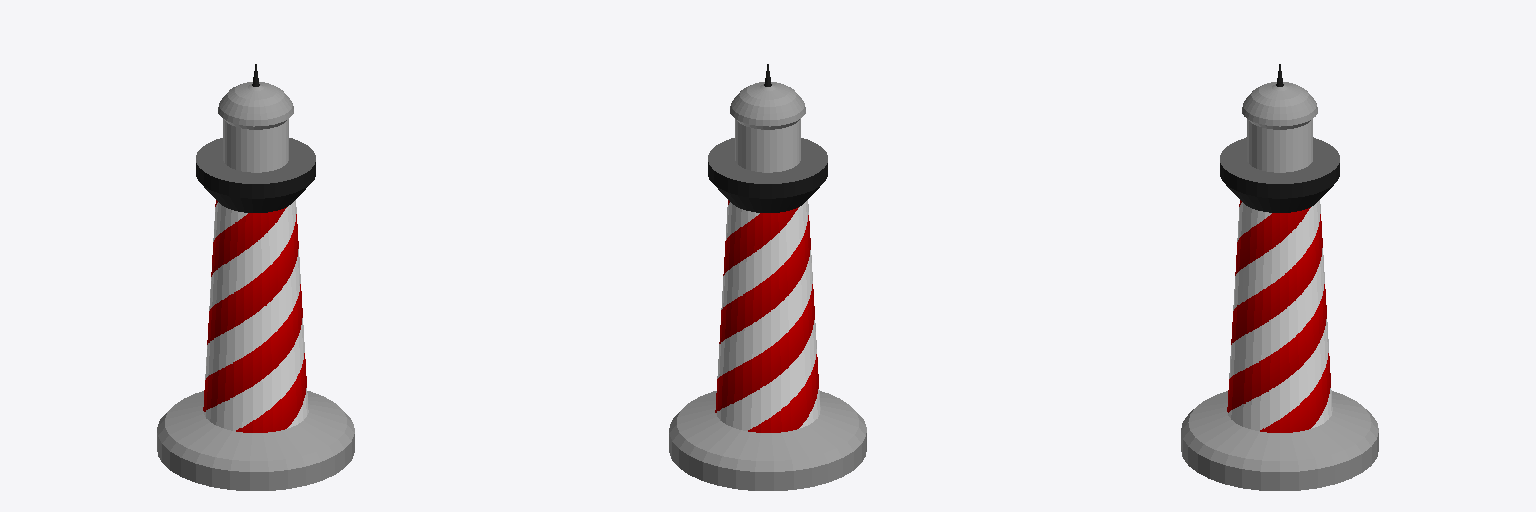
3 views of the same model, side by side, from view 1: azimuth 30°, elevation 25°; view 2: azimuth 150°, elevation 25°; view 3: azimuth 270°, elevation 25° (orthographic).
Parts seen in each view (by area): view 1: Lighthouse_Cylinder.004; view 2: Lighthouse_Cylinder.004; view 3: Lighthouse_Cylinder.004.
Boxes of the visible parts, <box> form: Lighthouse_Cylinder.004: <box>157,64,354,490</box>; Lighthouse_Cylinder.004: <box>669,64,866,490</box>; Lighthouse_Cylinder.004: <box>1181,64,1378,490</box>.
Size of the model in its own units: 45.3 by 98.72 by 45.3.
Materials: 8 (1 with a texture image).